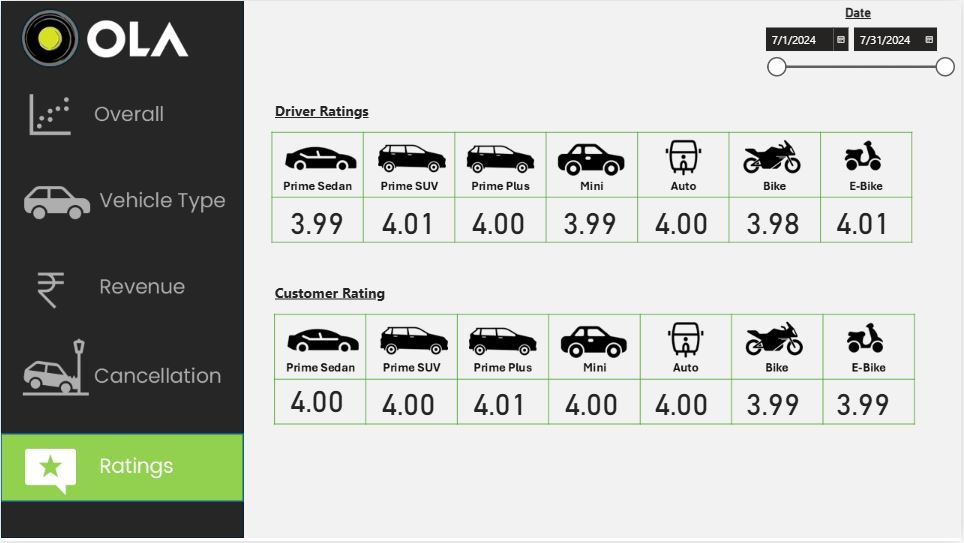

Layout of this report page (visuals, bound fields, positions):
{"tool":"powerbi","page":{"name":"Ratings","canvas":[1280,720],"ordinal":4},"visuals":[{"type":"actionButton","box":[0,201.3,324.3,100.7],"z":0},{"type":"actionButton","box":[0,575.2,324.3,97.5],"z":1000},{"type":"actionButton","box":[0,337.1,324.3,97.5],"z":2000},{"type":"actionButton","box":[0,434.6,324.3,97.5],"z":3000},{"type":"actionButton","box":[0,105.4,324.3,100.7],"z":4000},{"type":"card","fields":{"Values":["Avg(Measure.Driver_Ratings)"]},"box":[360,264.3,121.4,55.7],"z":5000},{"type":"card","fields":{"Values":["Avg(Measure.Driver_Ratings)"]},"box":[481.4,264.3,121.4,55.7],"z":6000},{"type":"card","fields":{"Values":["Avg(Measure.Driver_Ratings)"]},"box":[602.9,264.3,121.4,55.7],"z":7000},{"type":"card","fields":{"Values":["Avg(Measure.Driver_Ratings)"]},"box":[724.3,264.3,121.4,55.7],"z":8000},{"type":"card","fields":{"Values":["Avg(Measure.Driver_Ratings)"]},"box":[845.7,264.3,121.4,55.7],"z":9000},{"type":"card","fields":{"Values":["Avg(Measure.Driver_Ratings)"]},"box":[967.1,264.3,121.4,55.7],"z":10000},{"type":"card","fields":{"Values":["Avg(Measure.Driver_Ratings)"]},"box":[1088.6,264.3,121.4,55.7],"z":11000},{"type":"card","fields":{"Values":["Avg(Measure.Customer_Rating)"]},"box":[360,502.9,121.4,55.7],"z":12000},{"type":"textbox","box":[360,128.6,547.1,52.9],"z":18000},{"type":"textbox","box":[360,370,331.4,50],"z":19000},{"type":"card","fields":{"Values":["Avg(Measure.Customer_Rating)"]},"box":[482.9,505.7,121.4,55.7],"z":19001},{"type":"card","fields":{"Values":["Avg(Measure.Customer_Rating)"]},"box":[725.7,505.7,121.4,55.7],"z":19002},{"type":"card","fields":{"Values":["Avg(Measure.Customer_Rating)"]},"box":[845.7,505.7,121.4,55.7],"z":19003},{"type":"card","fields":{"Values":["Avg(Measure.Customer_Rating)"]},"box":[967.1,505.7,121.4,55.7],"z":19004},{"type":"card","fields":{"Values":["Avg(Measure.Customer_Rating)"]},"box":[1088.6,505.7,121.4,55.7],"z":19005},{"type":"card","fields":{"Values":["Avg(Measure.Customer_Rating)"]},"box":[604.3,505.7,121.4,55.7],"z":19006},{"type":"slicer","title":"Date","fields":{"Values":["July.Date"]},"box":[1006,0,274,128],"z":19007}]}

Visuals, with their boxes on the page's 1280x720 design canvas (x1, y1, x2, y2). These are canvas units, not pixel positions in the 964x543 screenshot, which may show the page scaled, cropped or inside an application window:
actionButton: 0,201,324,302
actionButton: 0,575,324,673
actionButton: 0,337,324,435
actionButton: 0,435,324,532
actionButton: 0,105,324,206
card - Avg(Measure.Driver_Ratings): 360,264,481,320
card - Avg(Measure.Driver_Ratings): 481,264,603,320
card - Avg(Measure.Driver_Ratings): 603,264,724,320
card - Avg(Measure.Driver_Ratings): 724,264,846,320
card - Avg(Measure.Driver_Ratings): 846,264,967,320
card - Avg(Measure.Driver_Ratings): 967,264,1088,320
card - Avg(Measure.Driver_Ratings): 1089,264,1210,320
card - Avg(Measure.Customer_Rating): 360,503,481,559
textbox: 360,129,907,182
textbox: 360,370,691,420
card - Avg(Measure.Customer_Rating): 483,506,604,561
card - Avg(Measure.Customer_Rating): 726,506,847,561
card - Avg(Measure.Customer_Rating): 846,506,967,561
card - Avg(Measure.Customer_Rating): 967,506,1088,561
card - Avg(Measure.Customer_Rating): 1089,506,1210,561
card - Avg(Measure.Customer_Rating): 604,506,726,561
"Date" slicer: 1006,0,1280,128
